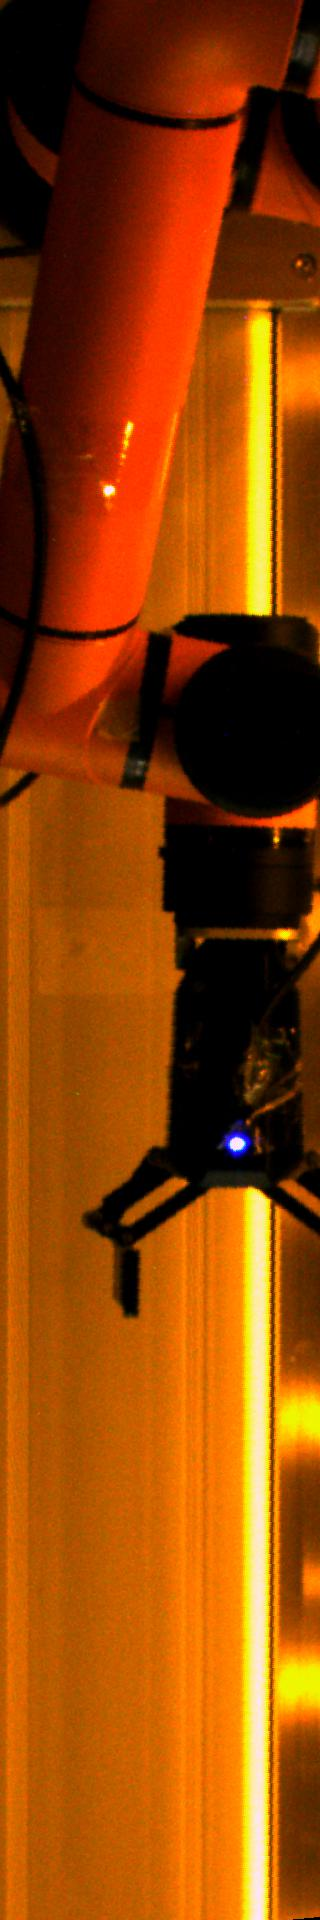keyPoint_1: (222, 1127, 253, 1156)
